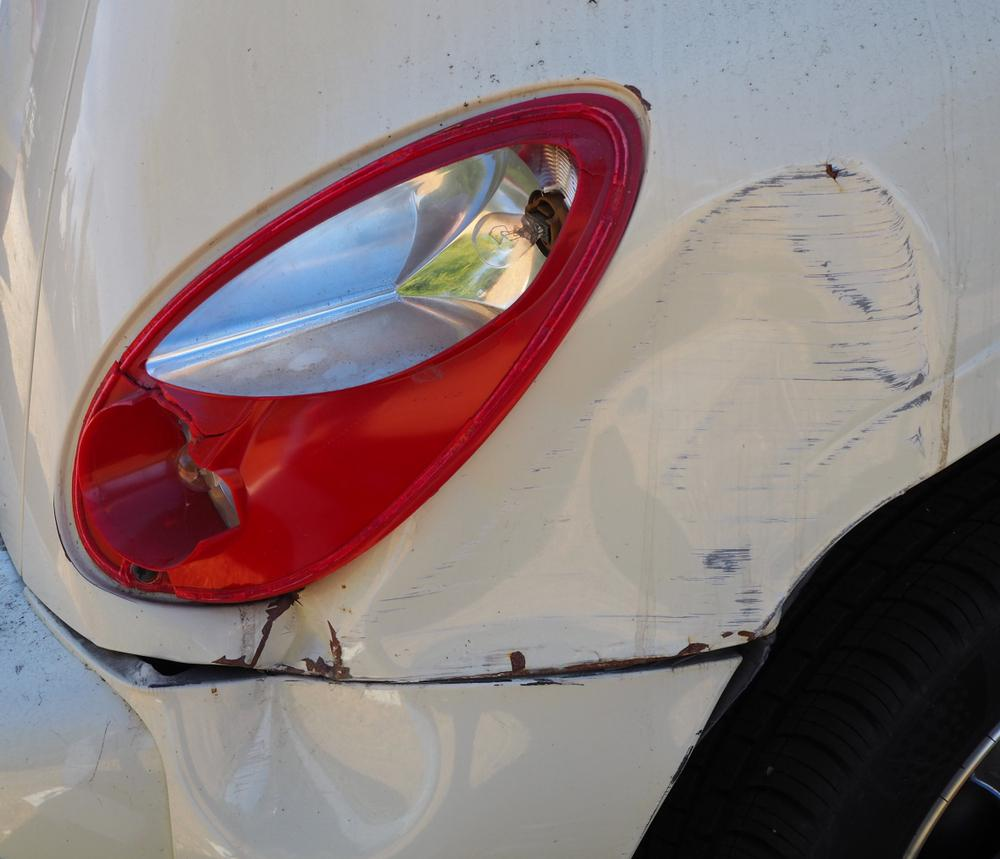dent: (243, 169, 933, 679), (162, 665, 435, 843)
lamp broken: (69, 91, 642, 605)
